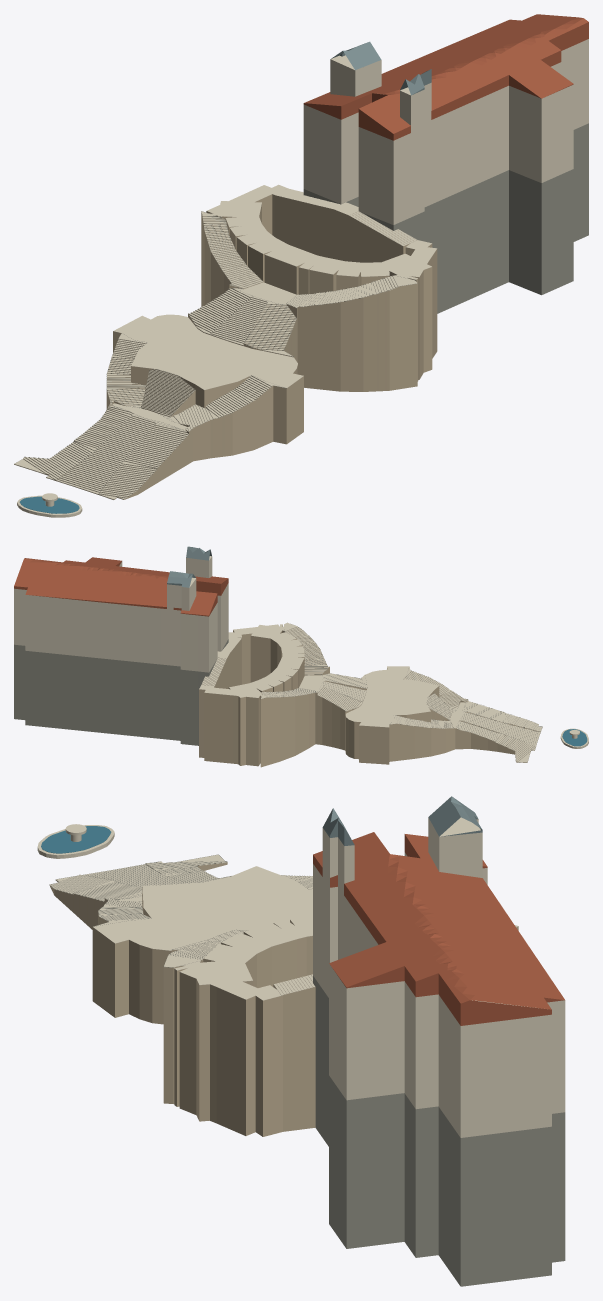
The model's file is spanish-steps.glb.
3 views of the same model, one above another, from view 1: azimuth 30°, elevation 25°; view 2: azimuth 150°, elevation 25°; view 3: azimuth 270°, elevation 25° (orthographic). The views are drawn at different scales.
Visible parts, largest first — view 1: continuous-stair-treads-support, trinita-church, continuous-stair-treads, church-ground-cutaway-support, roof (×2), landing-w54572036, tread-joints, upper-street-terrace-support, upper-street-terrace, church-approach-treads-support, trinita-twin-bell-towers, landing-w54572036-support (+4 smaller); view 2: church-ground-cutaway-support, trinita-church, continuous-stair-treads-support, roof (×2), continuous-stair-treads, upper-street-terrace-support, landing-w54572036, upper-street-terrace, landing-w54572036-support, tread-joints, trinita-twin-bell-towers, church-approach-treads-support (+2 smaller); view 3: church-ground-cutaway-support, trinita-church, roof (×2), upper-street-terrace-support, landing-w54572036, continuous-stair-treads, landing-w54572036-support, church-approach-treads-support, tread-joints, upper-street-terrace, trinita-twin-bell-towers, continuous-stair-treads-support (+2 smaller).
Part boxes in pixels (bbox=[...]): continuous-stair-treads-support: bbox=[14, 212, 417, 499]; trinita-church: bbox=[303, 39, 588, 224]; continuous-stair-treads: bbox=[14, 211, 417, 499]; church-ground-cutaway-support: bbox=[303, 123, 588, 313]; roof (×2): bbox=[303, 14, 588, 140]; landing-w54572036: bbox=[113, 314, 303, 390]; tread-joints: bbox=[14, 211, 417, 498]; upper-street-terrace-support: bbox=[206, 194, 437, 381]; upper-street-terrace: bbox=[207, 184, 437, 279]; church-approach-treads-support: bbox=[274, 195, 416, 262]; trinita-twin-bell-towers: bbox=[330, 55, 431, 132]; landing-w54572036-support: bbox=[113, 331, 303, 443]; church-ground-cutaway-support: bbox=[14, 639, 228, 745]; trinita-church: bbox=[14, 561, 228, 672]; continuous-stair-treads-support: bbox=[260, 626, 542, 767]; roof (×2): bbox=[14, 546, 228, 616]; continuous-stair-treads: bbox=[261, 622, 542, 762]; upper-street-terrace-support: bbox=[199, 625, 304, 766]; landing-w54572036: bbox=[345, 666, 438, 727]; upper-street-terrace: bbox=[199, 624, 304, 697]; landing-w54572036-support: bbox=[345, 668, 439, 764]; tread-joints: bbox=[262, 627, 542, 762]; trinita-twin-bell-towers: bbox=[167, 556, 212, 610]; church-approach-treads-support: bbox=[204, 639, 241, 688]; church-ground-cutaway-support: bbox=[313, 976, 565, 1286]; trinita-church: bbox=[313, 852, 565, 1137]; roof (×2): bbox=[313, 796, 564, 1025]; upper-street-terrace-support: bbox=[174, 920, 518, 1136]; landing-w54572036: bbox=[93, 866, 312, 950]; continuous-stair-treads: bbox=[50, 854, 312, 967]; landing-w54572036-support: bbox=[92, 887, 171, 1024]; church-approach-treads-support: bbox=[273, 984, 315, 1131]; tread-joints: bbox=[49, 854, 312, 967]; upper-street-terrace: bbox=[174, 916, 518, 1000]; trinita-twin-bell-towers: bbox=[322, 817, 482, 894]; continuous-stair-treads-support: bbox=[49, 862, 227, 1103].
Size of the model in its own units: 16 by 5.36 by 7.79.
